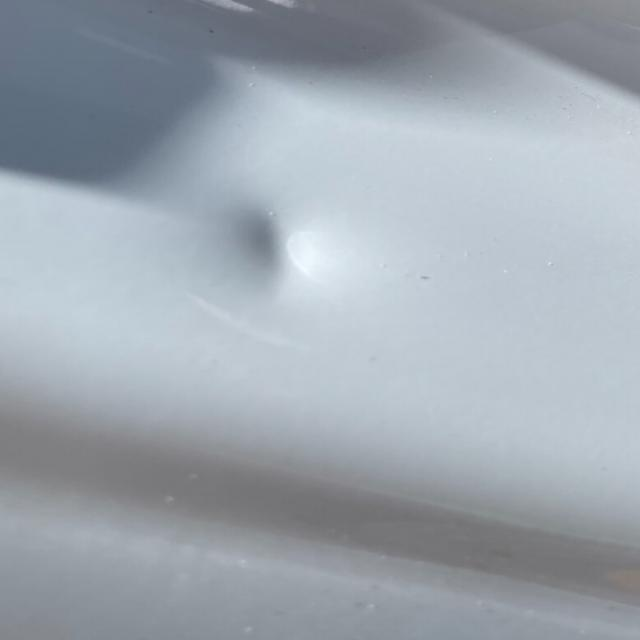dents: (157, 136, 424, 388)
